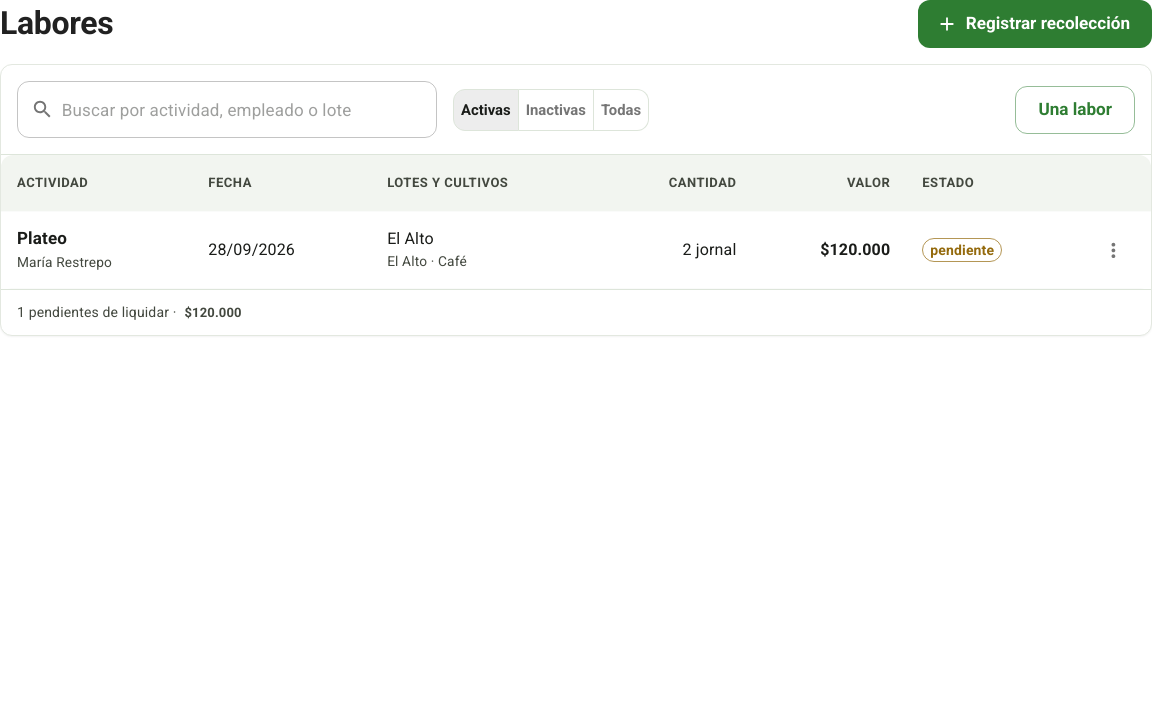
Test: WorkRecordsPage › says why a settled labor cannot be deactivated, and the alert closes
Click the button named "Acciones de Plateo de María Restrepo".
click(1113, 250)  # box [1091,228,1135,272]
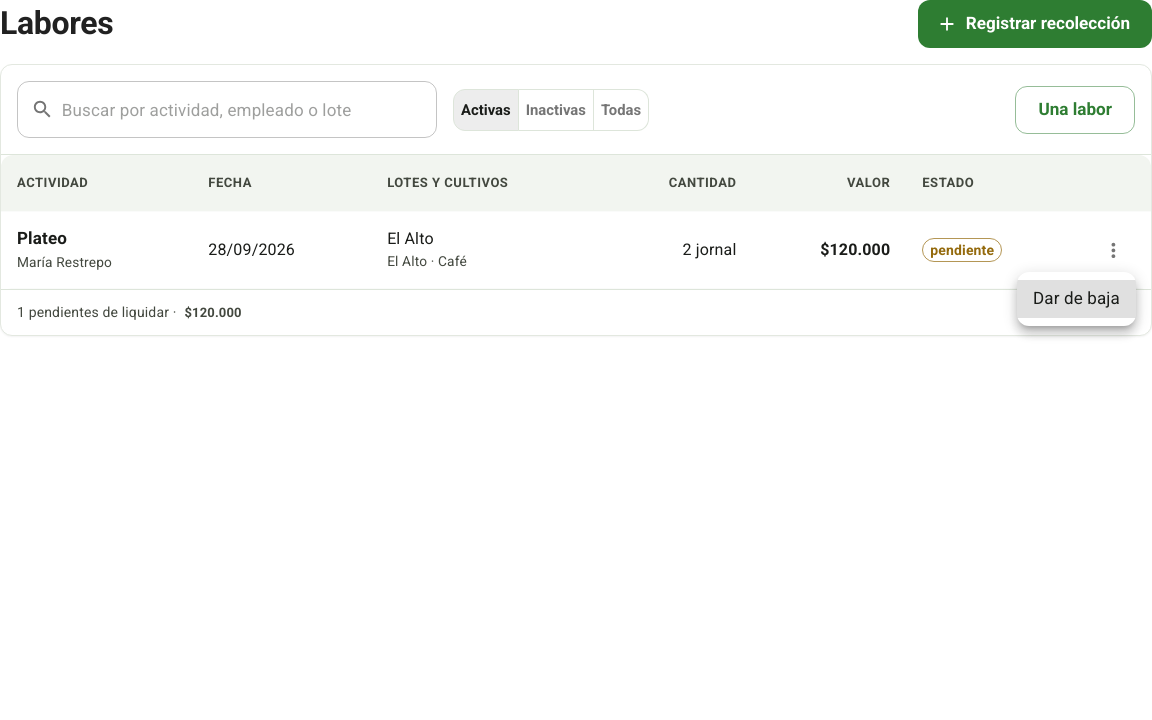
Click the menu item "Dar de baja".
click(1076, 299)  # box [1017,280,1136,318]
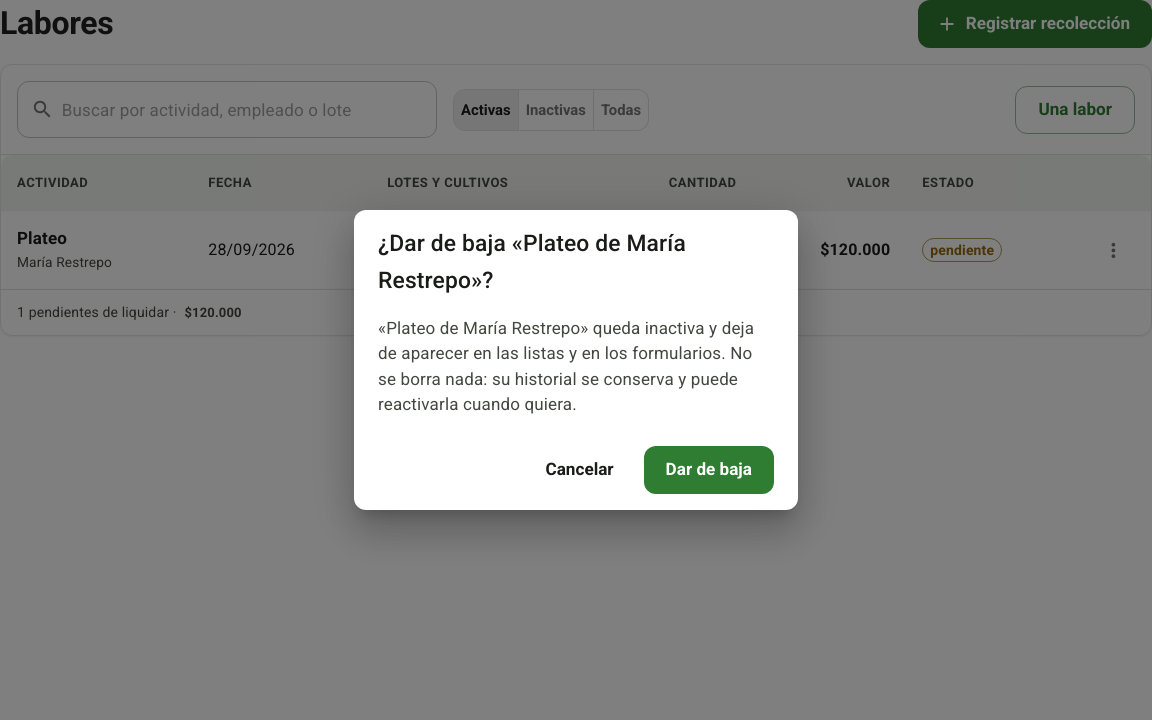
Click the button "Dar de baja".
click(709, 470)  # box [644,446,774,494]
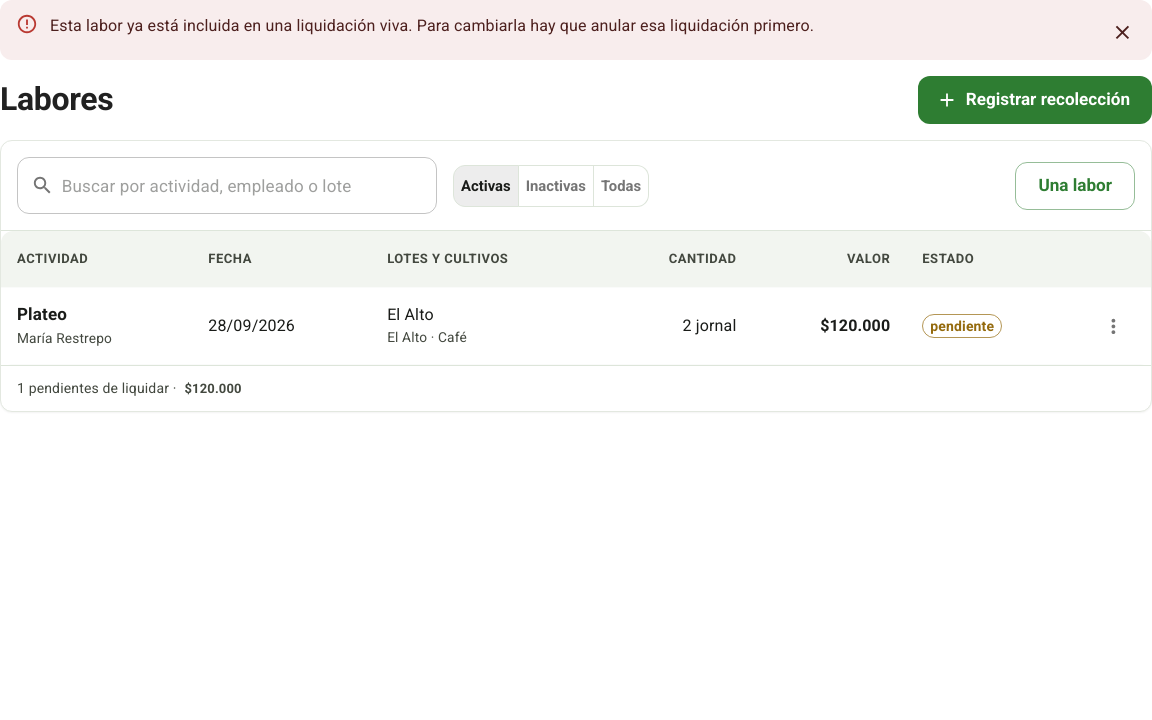
Click the button named "Cerrar".
click(1122, 32)  # box [1100,10,1144,54]
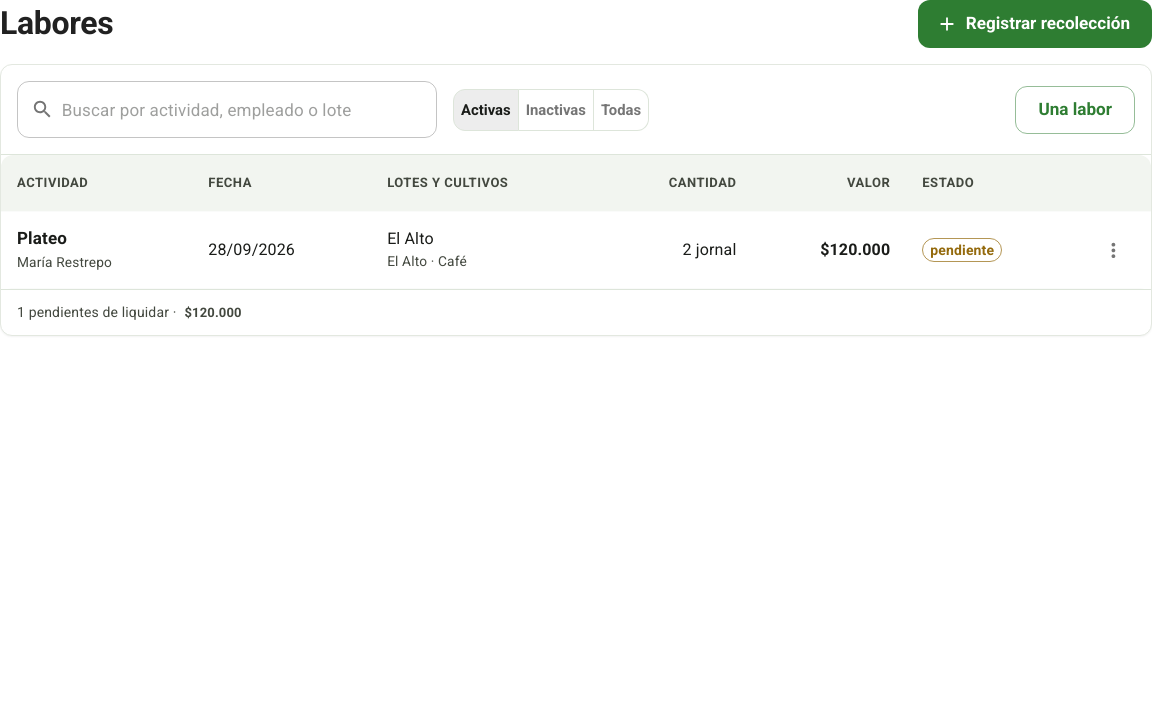
Now the message is gone
